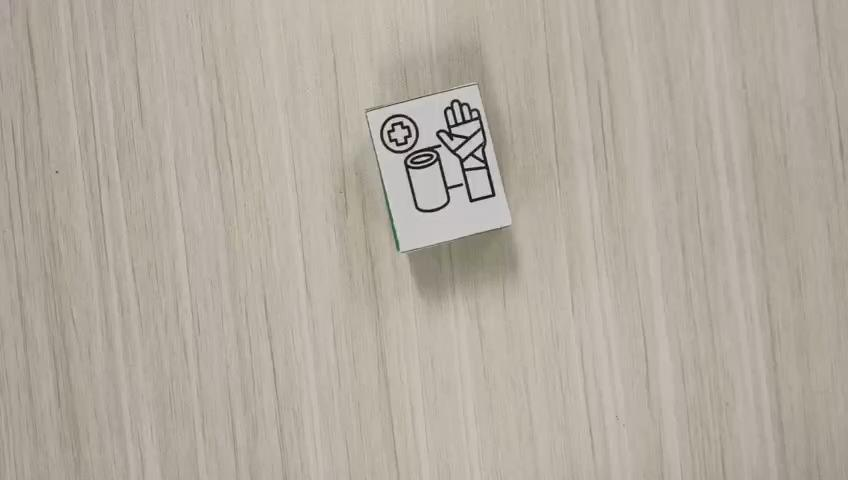Bandages: (365, 82, 514, 255)
